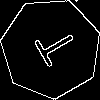T: (26, 23, 80, 73)
